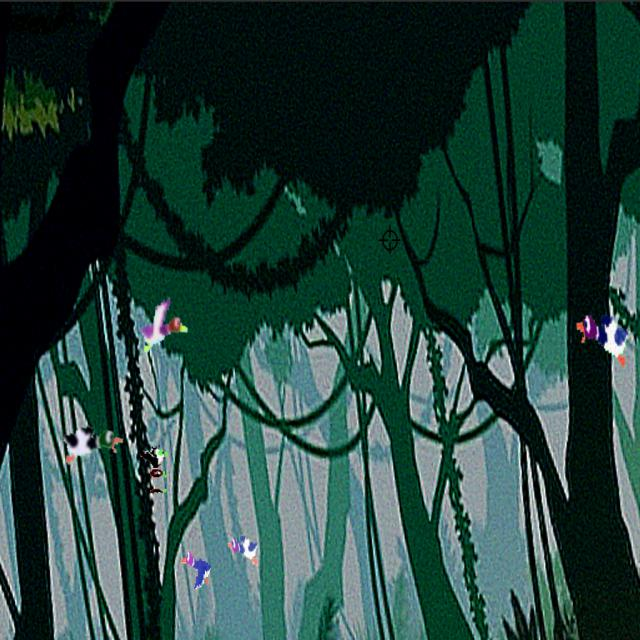duck: (569, 303, 634, 370), (59, 417, 128, 472), (136, 295, 190, 360), (177, 544, 216, 594), (225, 525, 262, 567)
falling_duck: (142, 433, 170, 486)
